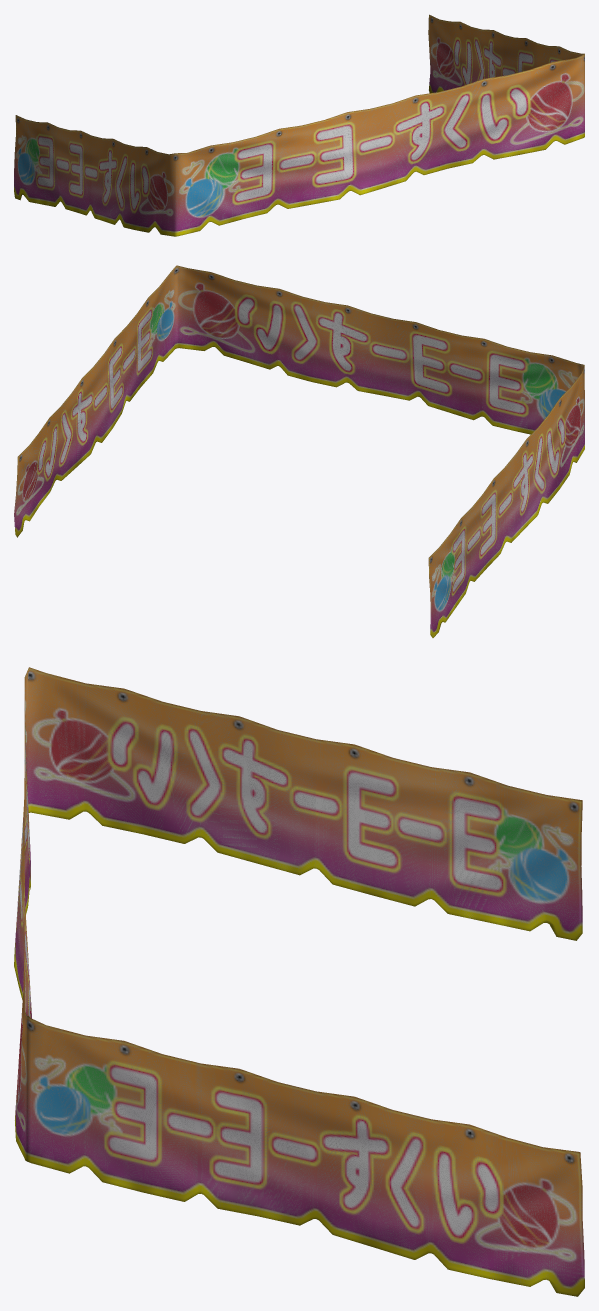
File: jsf_ShopCurtain_WaterBalloonFishing_01.fbx
The picture shows the model from 3 angles, top to bottom: view 1: azimuth 30°, elevation 25°; view 2: azimuth 150°, elevation 25°; view 3: azimuth 270°, elevation 25°; orthographic projection. The views are drawn at different scales.
Parts seen in each view (by area): view 1: jsf_ShopCurtain_WaterBalloonFishing_01; view 2: jsf_ShopCurtain_WaterBalloonFishing_01; view 3: jsf_ShopCurtain_WaterBalloonFishing_01.
Boxes of the visible parts, box(x1,y1,x2,y2) form: jsf_ShopCurtain_WaterBalloonFishing_01: box(14, 14, 584, 236); jsf_ShopCurtain_WaterBalloonFishing_01: box(14, 265, 584, 637); jsf_ShopCurtain_WaterBalloonFishing_01: box(14, 667, 584, 1296).
Bounding box in the file's own units: 323 × 116 × 216.
